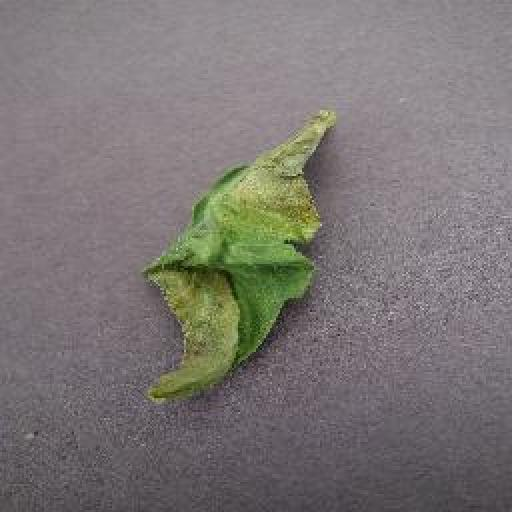disease_tomato: (145, 114, 335, 402)
